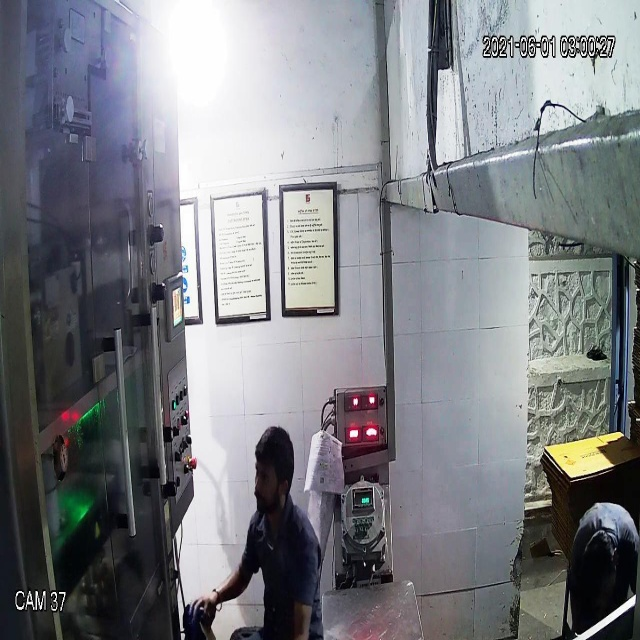Sin_gafas: (252, 464, 289, 496)
